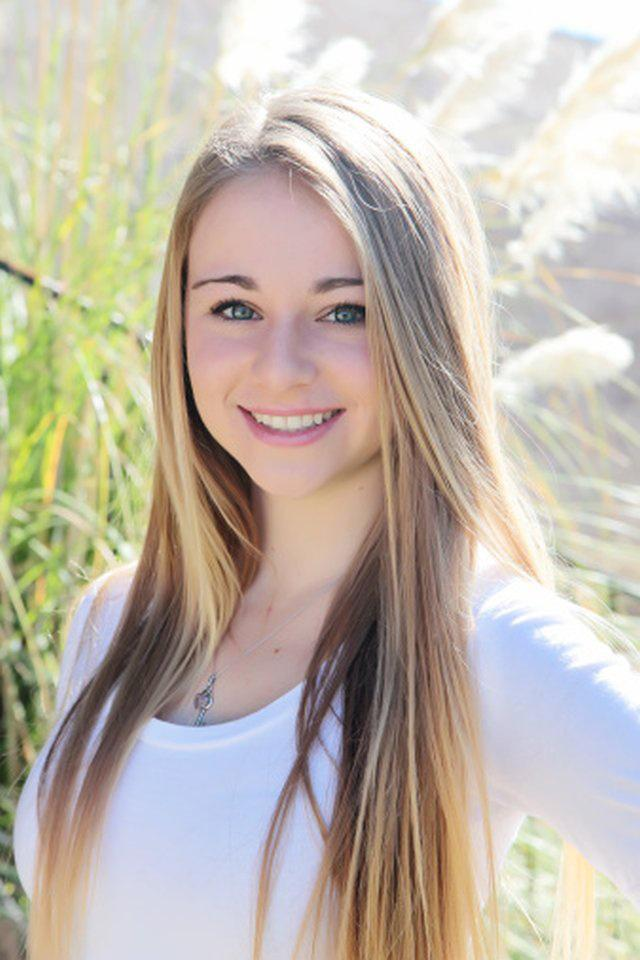face: (186, 169, 405, 494)
